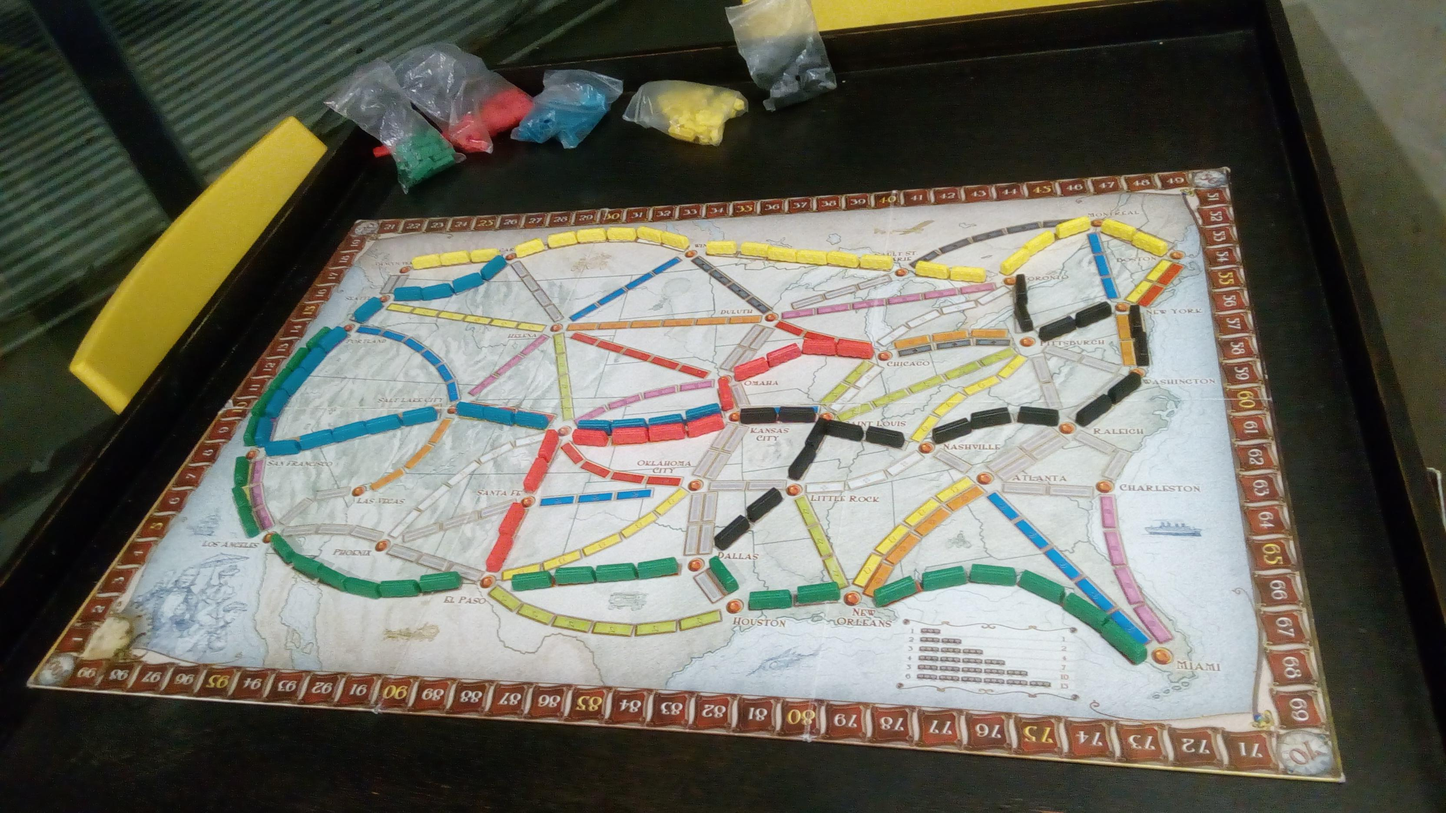corner_bl: (33, 654, 79, 685)
corner_br: (1273, 731, 1337, 778)
corner_tl: (349, 220, 381, 237)
corner_tr: (1194, 169, 1228, 188)
